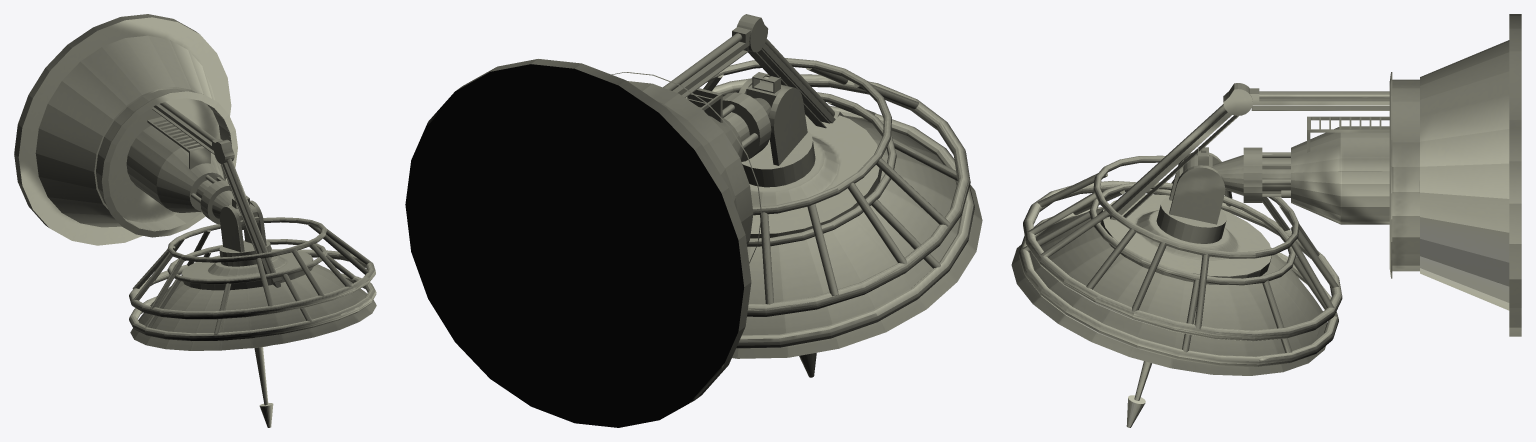
The model's file is dmzc.glb.
3 renders of one model, left to right at view 1: azimuth 30°, elevation 25°; view 2: azimuth 150°, elevation 25°; view 3: azimuth 270°, elevation 25°, orthographic. The views are drawn at different scales.
Parts seen in each view (by area): view 1: ____010; view 2: ____010; view 3: ____010.
Boxes of the visible parts, x1,y1,x2,y2 form: ____010: (14,14,376,427); ____010: (405,14,982,427); ____010: (1011,14,1521,427).
Size of the model in its own units: 12.63 by 16.69 by 19.35.
1 material, 1 textured.
